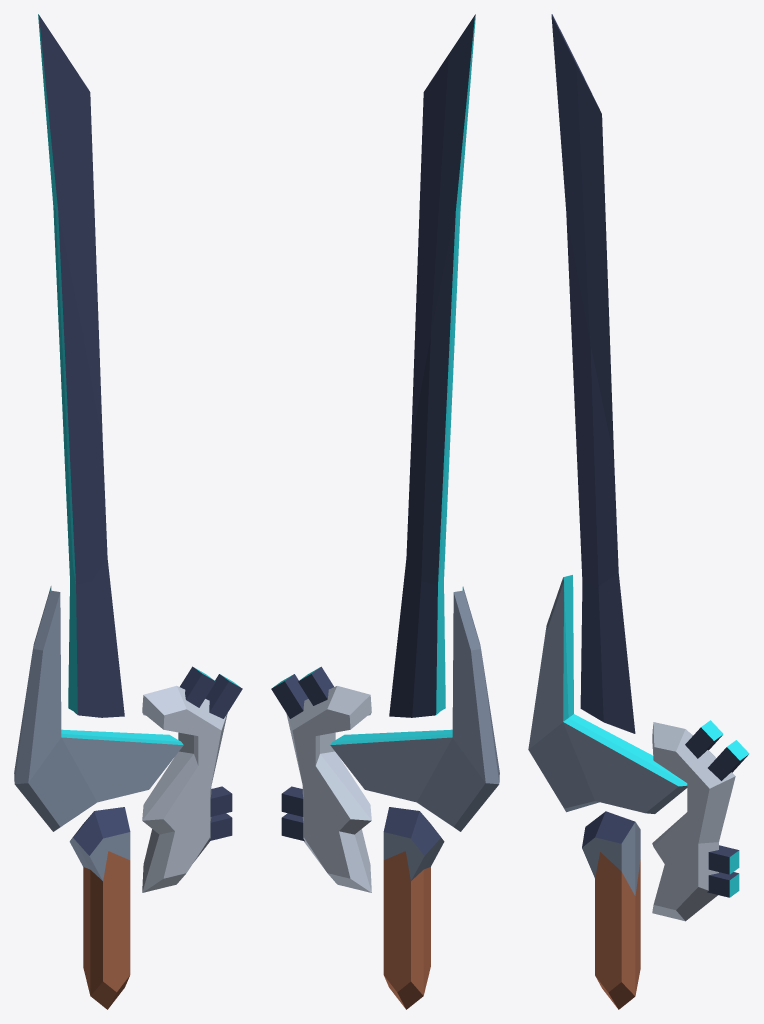
File: sword1.fbx
3 views of the same model, side by side, from view 1: azimuth 30°, elevation 25°; view 2: azimuth 150°, elevation 25°; view 3: azimuth 330°, elevation 25° (orthographic). The views are drawn at different scales.
Visible parts, largest first — view 1: Cube.003; view 2: Cube.003; view 3: Cube.003.
Boxes of the visible parts, x1=… form: Cube.003: x1=14, y1=14, x2=242, y2=1009; Cube.003: x1=271, y1=14, x2=499, y2=1009; Cube.003: x1=528, y1=14, x2=749, y2=1009.
Size of the model in its own units: 129 by 560 by 20.
